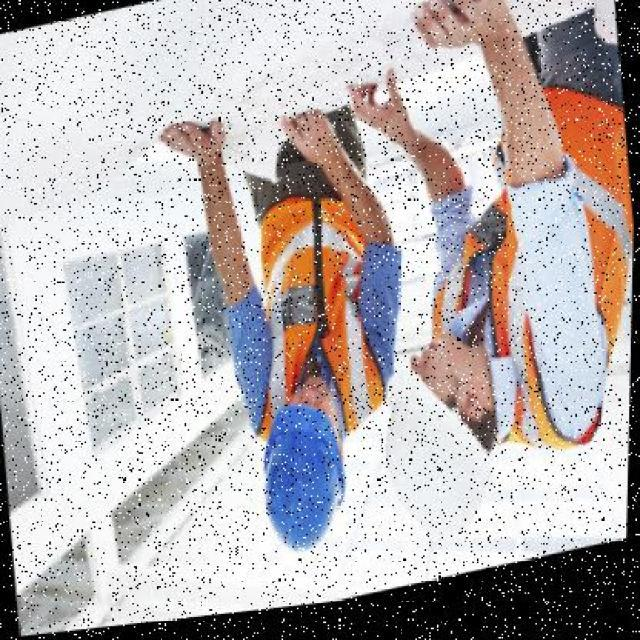helmet: (372, 359, 508, 560), (251, 392, 357, 566)
vest: (233, 192, 388, 448)
